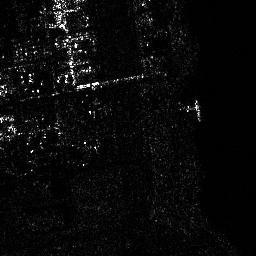ship: (193, 100, 202, 123)
